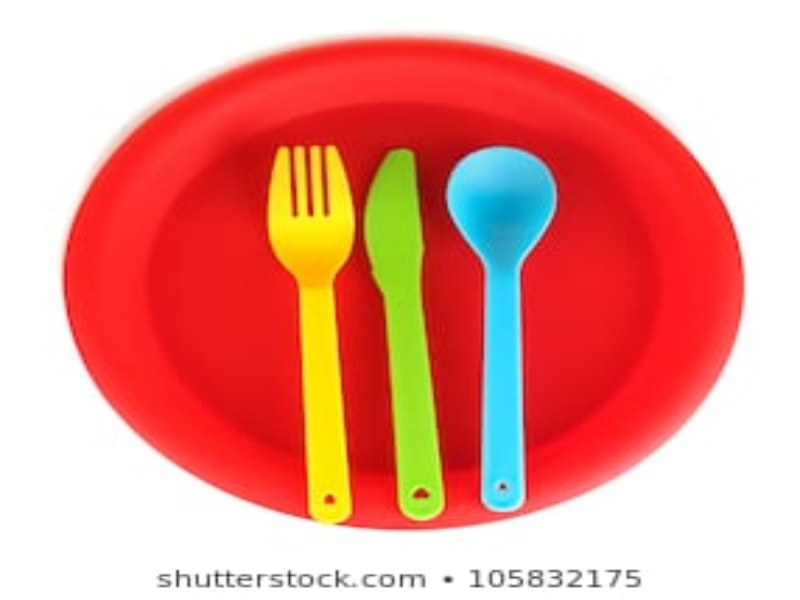plastic-plate: (60, 33, 745, 527)
plastic-silverware: (441, 144, 557, 510), (261, 138, 356, 526), (362, 143, 449, 524)
